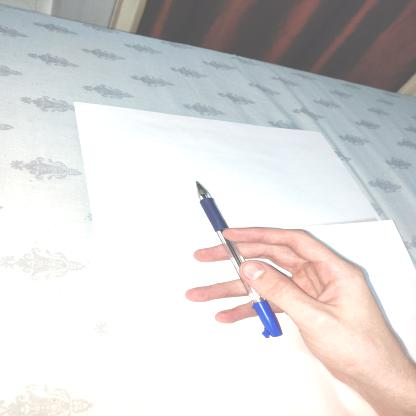Pen: (172, 163, 298, 362)
